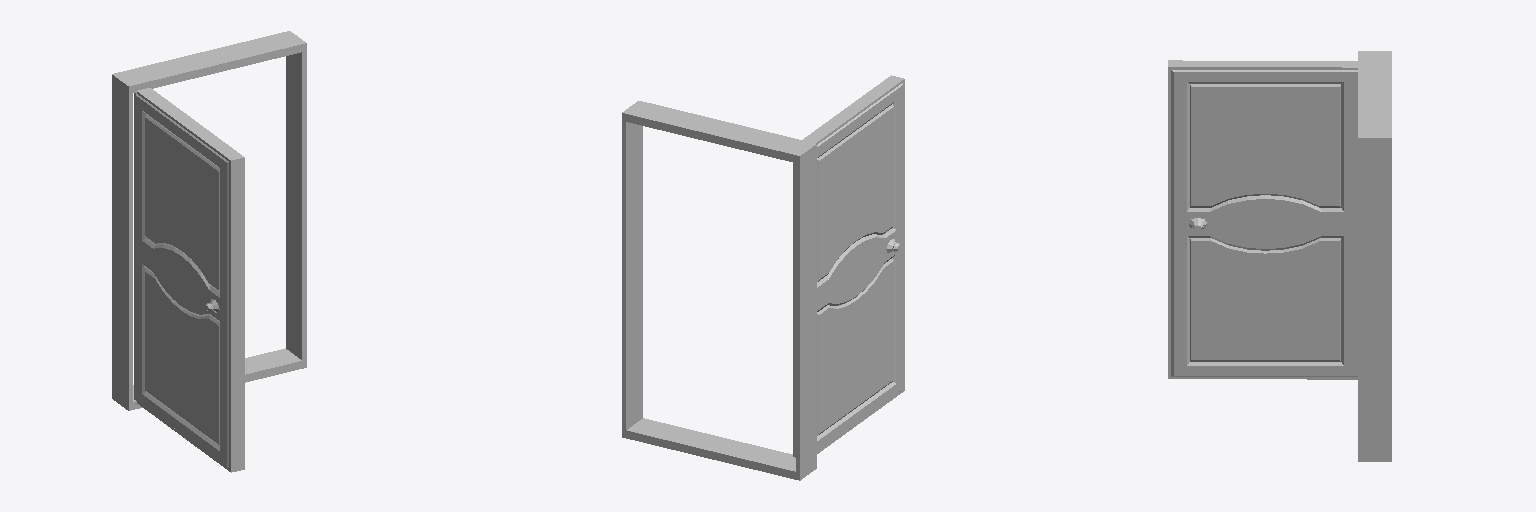
The model's file is drzwiok_000004.obj.
The picture shows the model from 3 angles: view 1: azimuth 30°, elevation 25°; view 2: azimuth 150°, elevation 25°; view 3: azimuth 270°, elevation 25°; orthographic projection.
Visible parts, largest first — view 1: Door_4.001_Cube.001, Kostka; view 2: Door_4.001_Cube.001, Kostka; view 3: Door_4.001_Cube.001, Kostka.
Part boxes in pixels (bbox=[...]): Door_4.001_Cube.001: bbox=[134, 88, 244, 472]; Kostka: bbox=[112, 31, 306, 410]; Door_4.001_Cube.001: bbox=[793, 75, 904, 457]; Kostka: bbox=[622, 101, 816, 480]; Door_4.001_Cube.001: bbox=[1168, 60, 1357, 379]; Kostka: bbox=[1358, 51, 1391, 461].
Bounding box in the file's own units: 0.7496 × 1.29 × 0.8087.